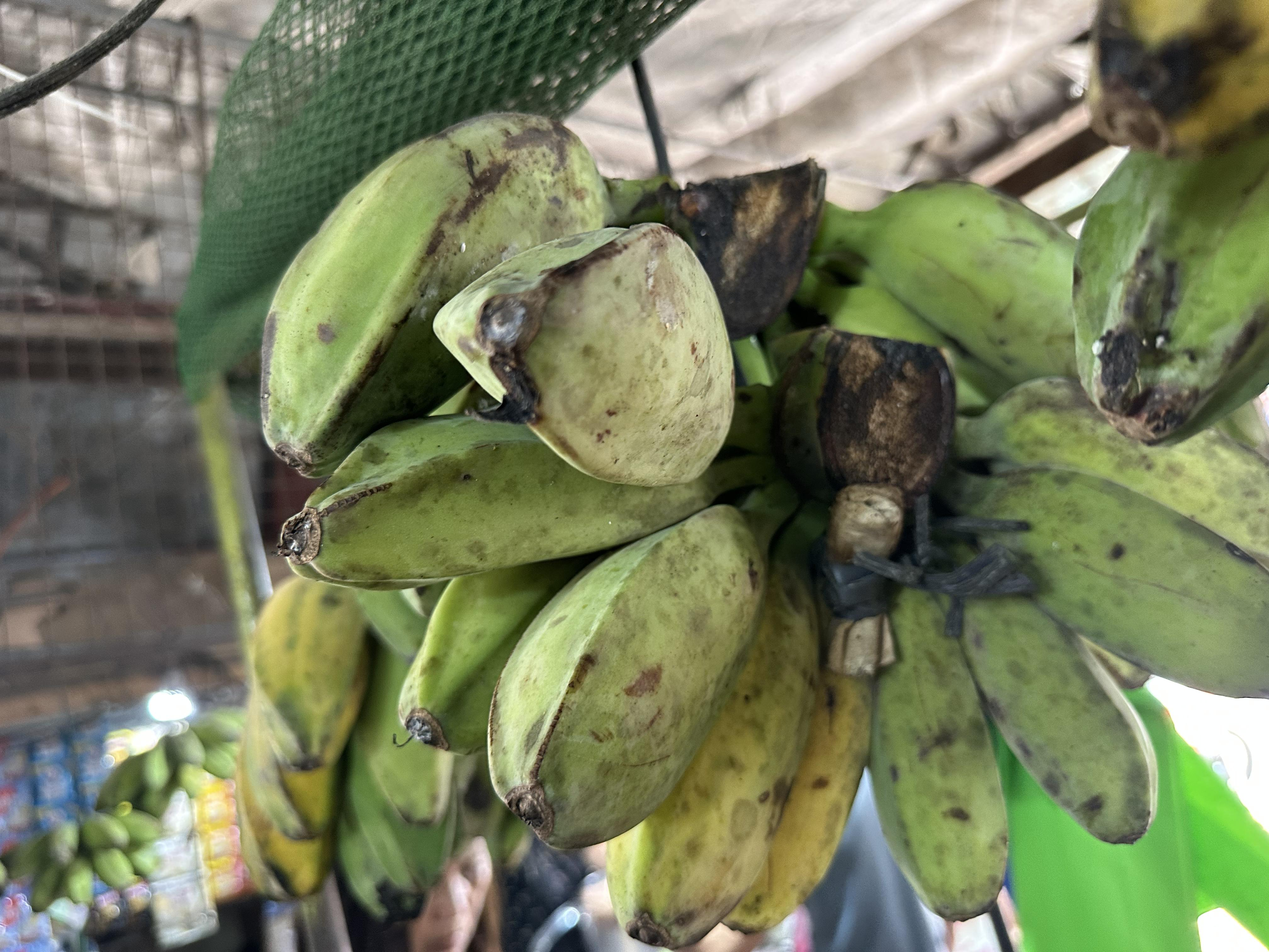underripe: (259, 110, 1268, 952), (235, 576, 370, 899), (336, 642, 461, 922)
